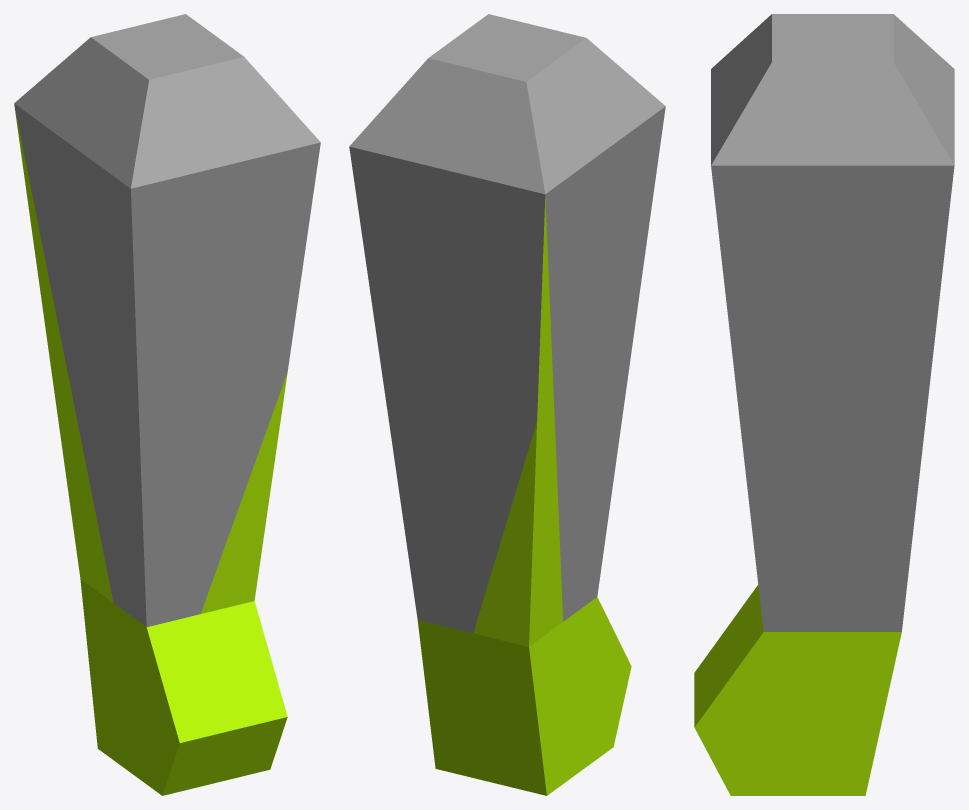
Rendered from AcidMutantLowerArm.fbx.
The picture shows the model from 3 angles, left to right: view 1: azimuth 30°, elevation 25°; view 2: azimuth 150°, elevation 25°; view 3: azimuth 270°, elevation 25°; orthographic projection. The views are drawn at different scales.
Parts seen in each view (by area): view 1: AcidMutantLowerArm; view 2: AcidMutantLowerArm; view 3: AcidMutantLowerArm.
Part boxes in pixels (x1,y1,x2,y2): AcidMutantLowerArm: (14, 14, 320, 795); AcidMutantLowerArm: (349, 14, 665, 795); AcidMutantLowerArm: (694, 14, 954, 795).
Size of the model in its own units: 0.1568 by 0.552 by 0.1781.
